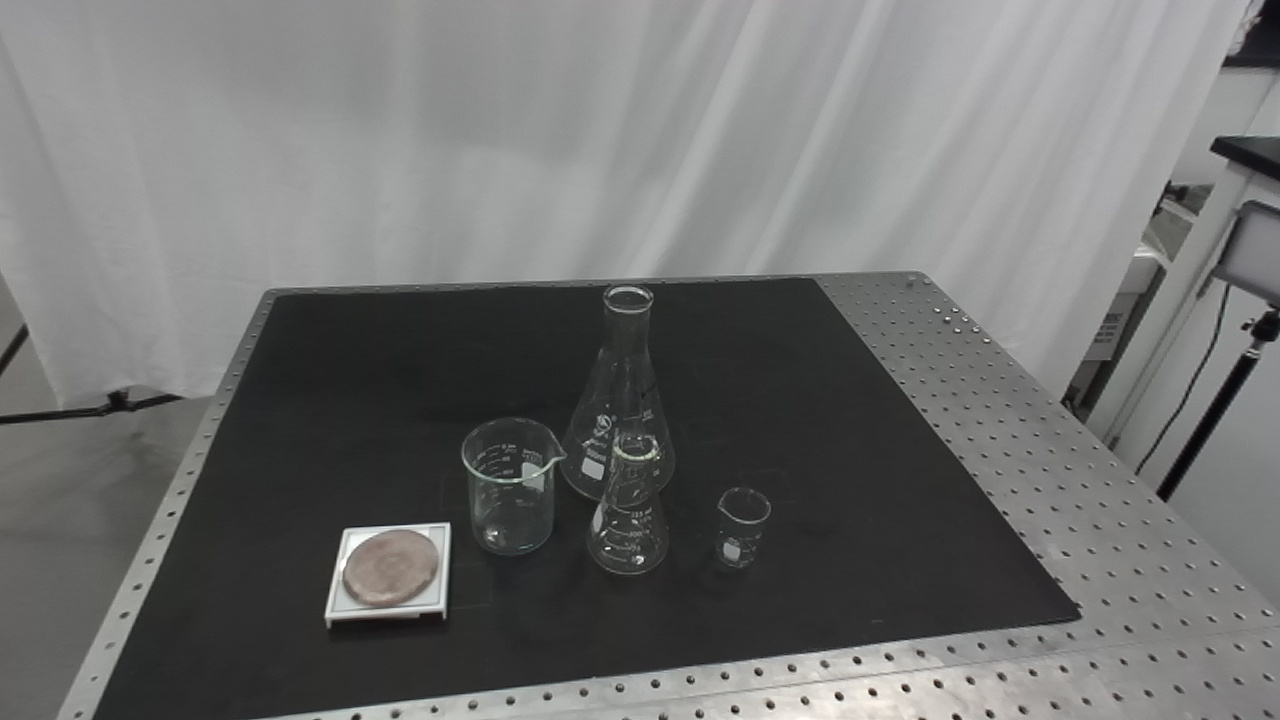glass: (560, 282, 679, 506), (458, 416, 567, 560), (587, 432, 673, 579), (713, 484, 770, 576)
plate: (325, 520, 455, 634)
